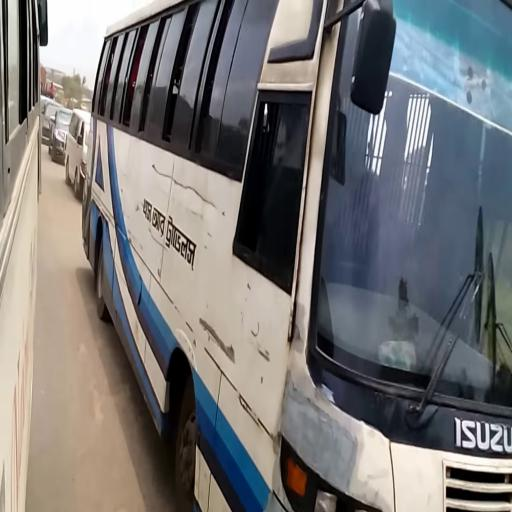bus: (80, 2, 512, 509), (2, 1, 43, 512)
car: (49, 108, 72, 164)
van: (65, 109, 92, 202)
